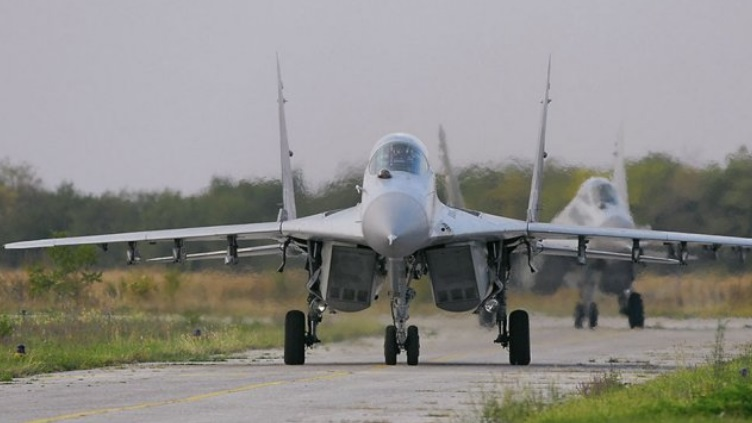Mig-29: (176, 99, 577, 364), (563, 166, 658, 267)
